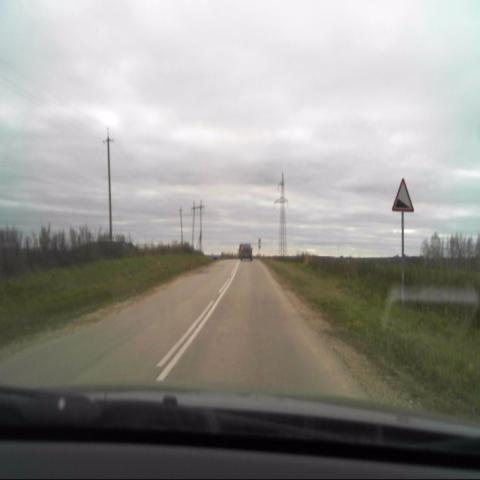1_13: (392, 176, 414, 213)
